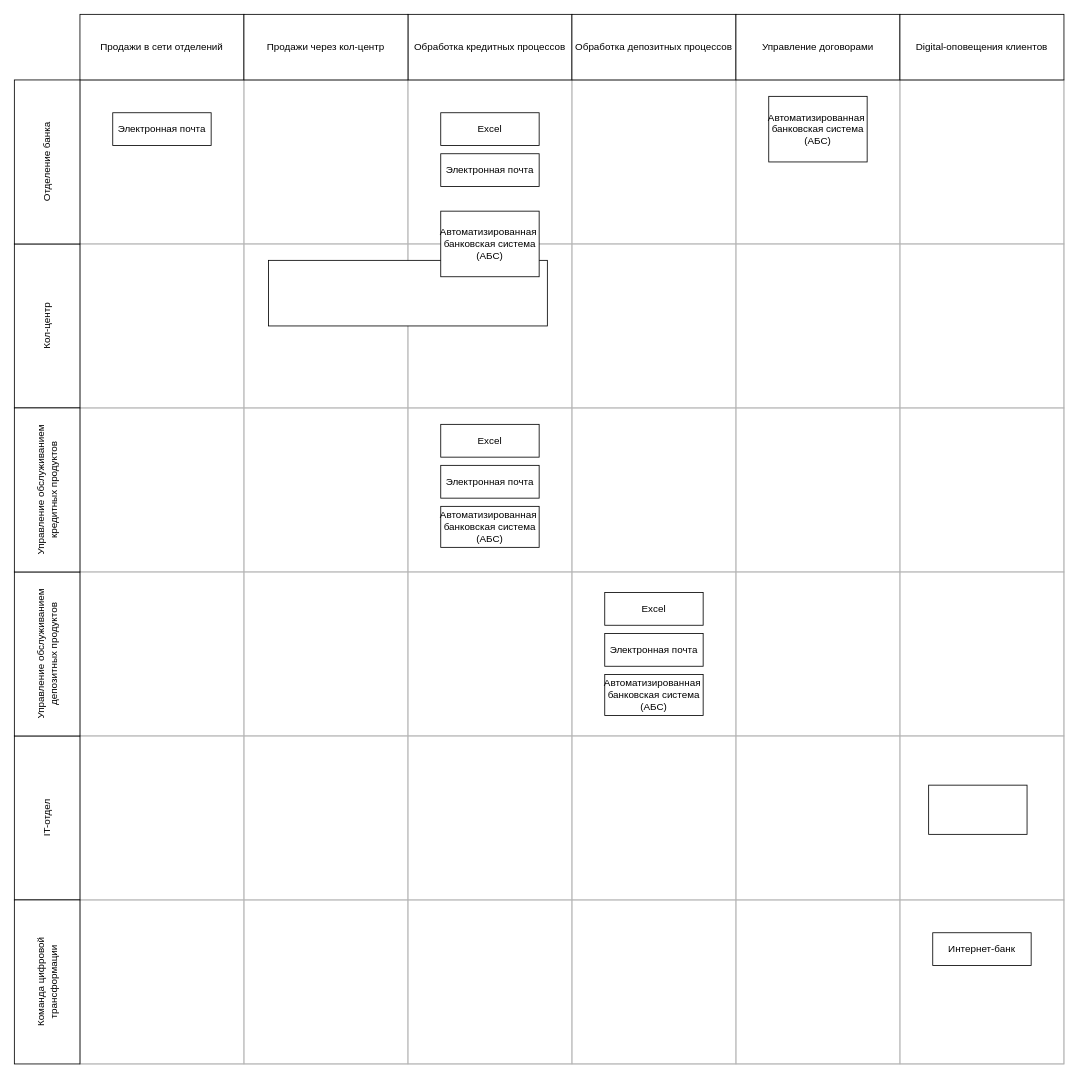
This 1078x1078 diagram has some shape labels left out. Here are the shapes that lost their labels. From the top down, the centre of each, then its label:
the point at 407,293: Система телеком-оператора
the point at 977,809: Смс-шлюз телеком-оператора
